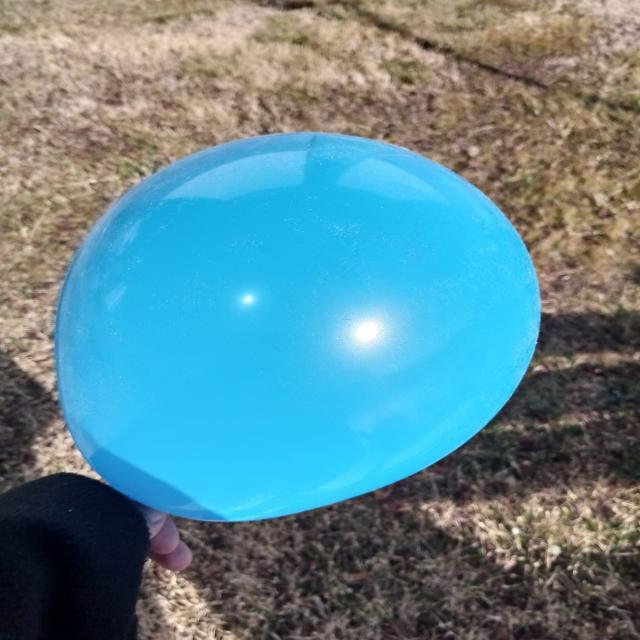balloon: (55, 133, 540, 521)
